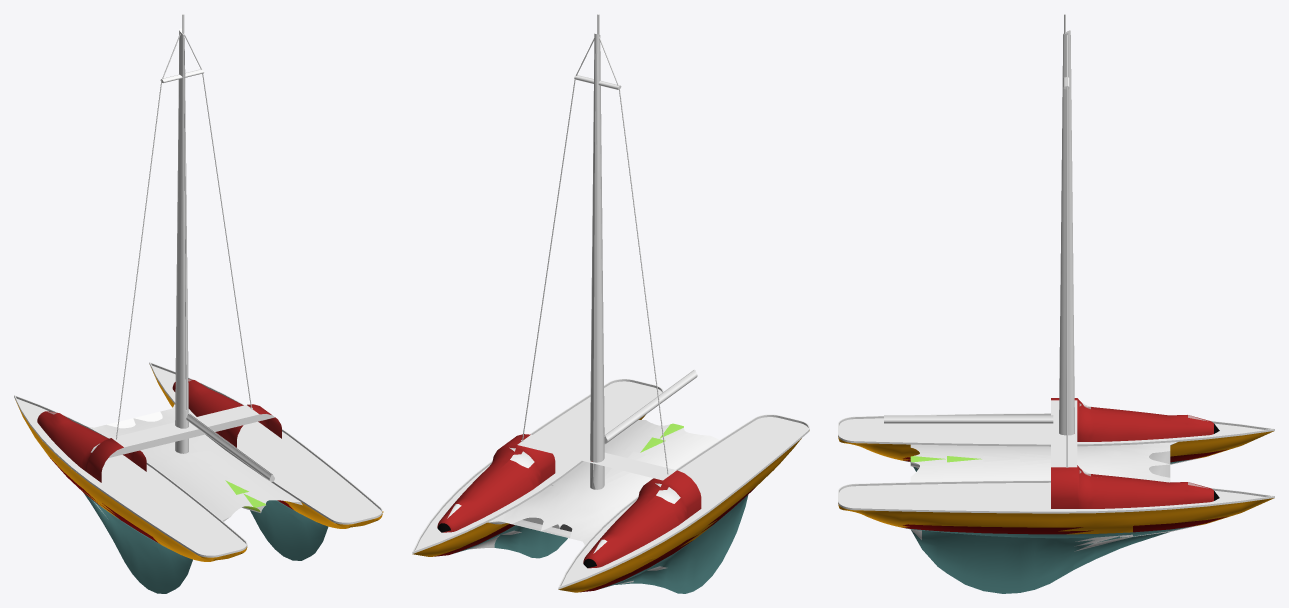
The model's file is boat.obj.
The picture shows the model from 3 angles, left to right: view 1: azimuth 30°, elevation 25°; view 2: azimuth 150°, elevation 25°; view 3: azimuth 270°, elevation 25°; orthographic projection. The views are drawn at different scales.
Visible parts, largest first — view 1: Layer0_001; view 2: Layer0_001; view 3: Layer0_001.
Boxes of the visible parts, bbox=[...] form: Layer0_001: bbox=[14, 14, 383, 593]; Layer0_001: bbox=[412, 14, 809, 593]; Layer0_001: bbox=[838, 14, 1274, 593].
Size of the model in its own units: 866 by 2237 by 1625.
